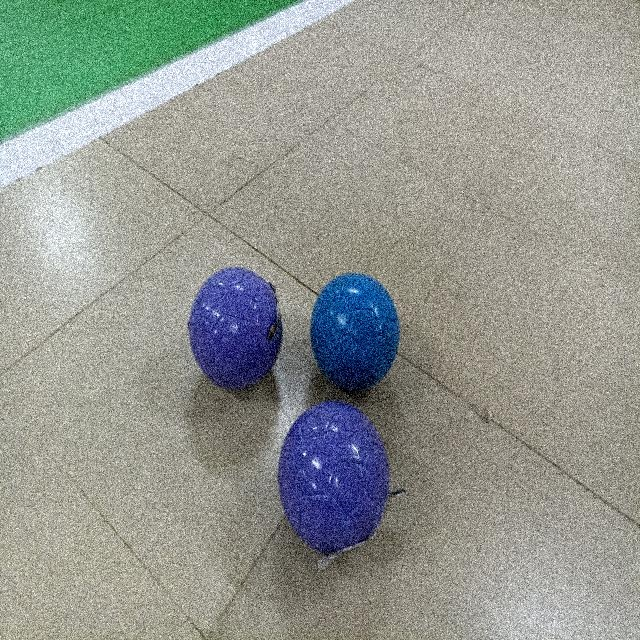blue_ball: (311, 273, 398, 389)
purple_ball: (276, 404, 393, 556), (189, 267, 283, 387)
